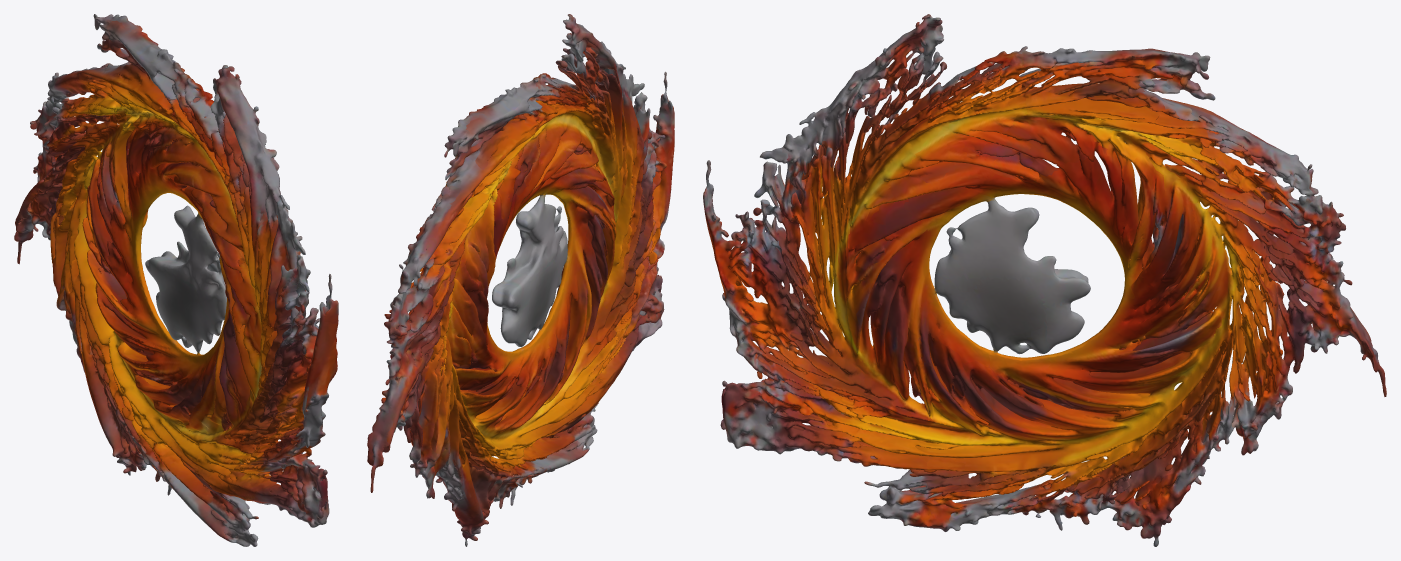
3 views of the same model, side by side, from view 1: azimuth 30°, elevation 25°; view 2: azimuth 150°, elevation 25°; view 3: azimuth 270°, elevation 25° (orthographic). The views are drawn at different scales.
Parts seen in each view (by area): view 1: tripo_node_a3823dc1-0cbd-49ef-a763-85ac876aa8a9; view 2: tripo_node_a3823dc1-0cbd-49ef-a763-85ac876aa8a9; view 3: tripo_node_a3823dc1-0cbd-49ef-a763-85ac876aa8a9.
Boxes of the visible parts, left/top/right/bottom form: tripo_node_a3823dc1-0cbd-49ef-a763-85ac876aa8a9: left=14, top=14, right=338, bottom=546; tripo_node_a3823dc1-0cbd-49ef-a763-85ac876aa8a9: left=367, top=14, right=674, bottom=546; tripo_node_a3823dc1-0cbd-49ef-a763-85ac876aa8a9: left=703, top=14, right=1386, bottom=546.
Size of the model in its own units: 0.0765 by 0.8544 by 1.
Materials: 1 (1 with a texture image).
